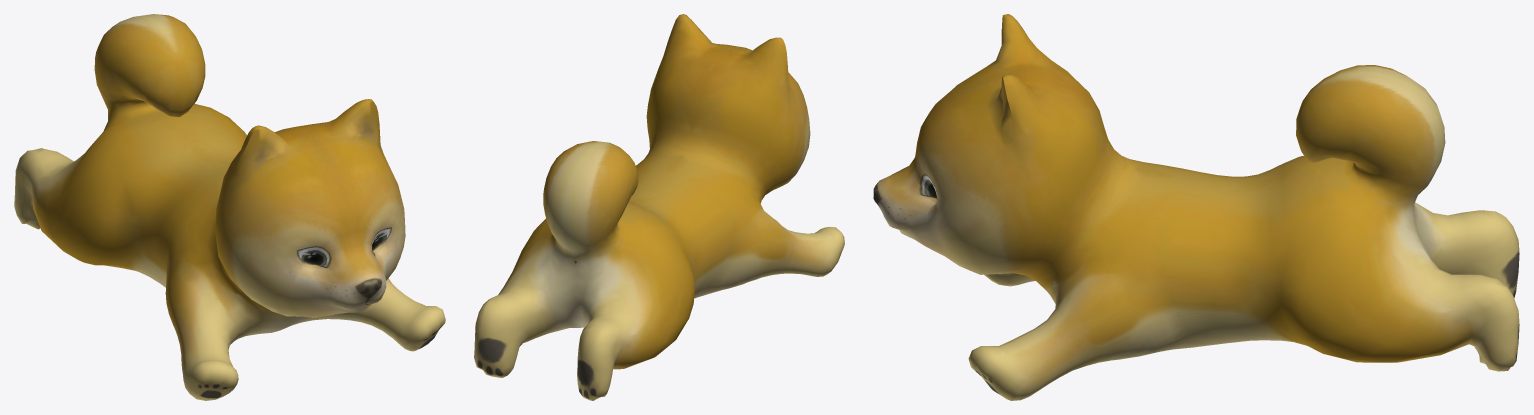
File: DogeHat.fbx
3 renders of one model, left to right at view 1: azimuth 30°, elevation 25°; view 2: azimuth 150°, elevation 25°; view 3: azimuth 270°, elevation 25°, orthographic. The views are drawn at different scales.
Parts seen in each view (by area): view 1: DogeHat; view 2: DogeHat; view 3: DogeHat.
Boxes of the visible parts, left/top/right/bottom form: DogeHat: left=14, top=14, right=445, bottom=400; DogeHat: left=474, top=14, right=844, bottom=400; DogeHat: left=873, top=14, right=1519, bottom=400.
Bounding box in the file's own units: 0.3185 × 0.3225 × 0.6335.
